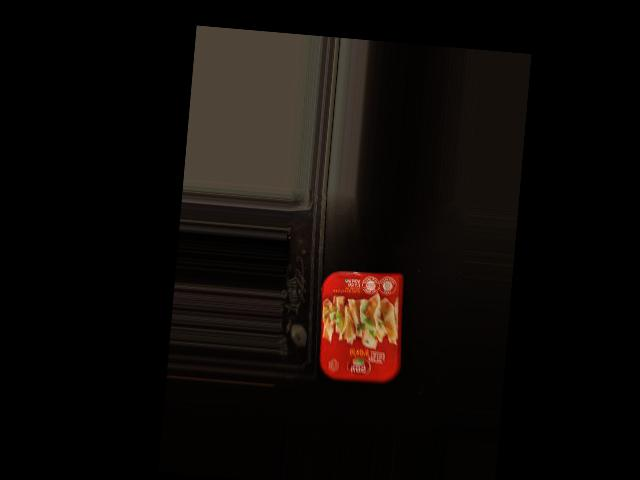cheese: (314, 269, 410, 387)
